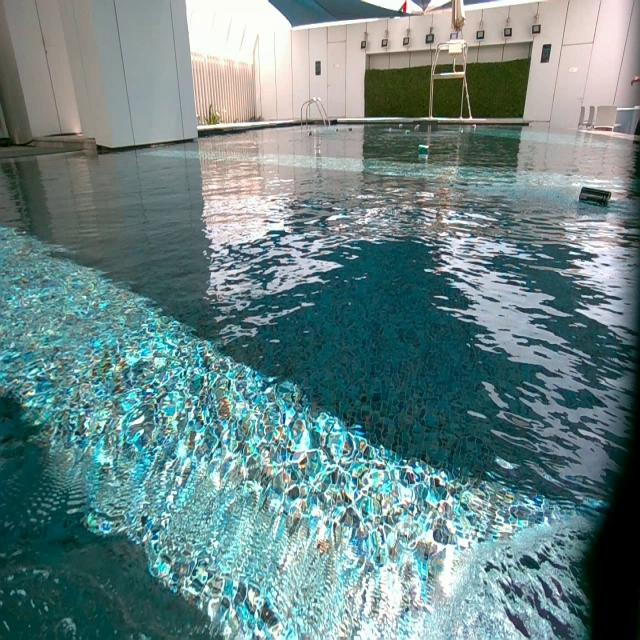Cans: (580, 185, 611, 208), (418, 144, 429, 156), (305, 131, 312, 138), (416, 122, 422, 130), (348, 128, 354, 134), (459, 128, 465, 134), (405, 130, 411, 135), (472, 124, 477, 130), (334, 128, 339, 133), (399, 124, 404, 128), (388, 128, 393, 132)
